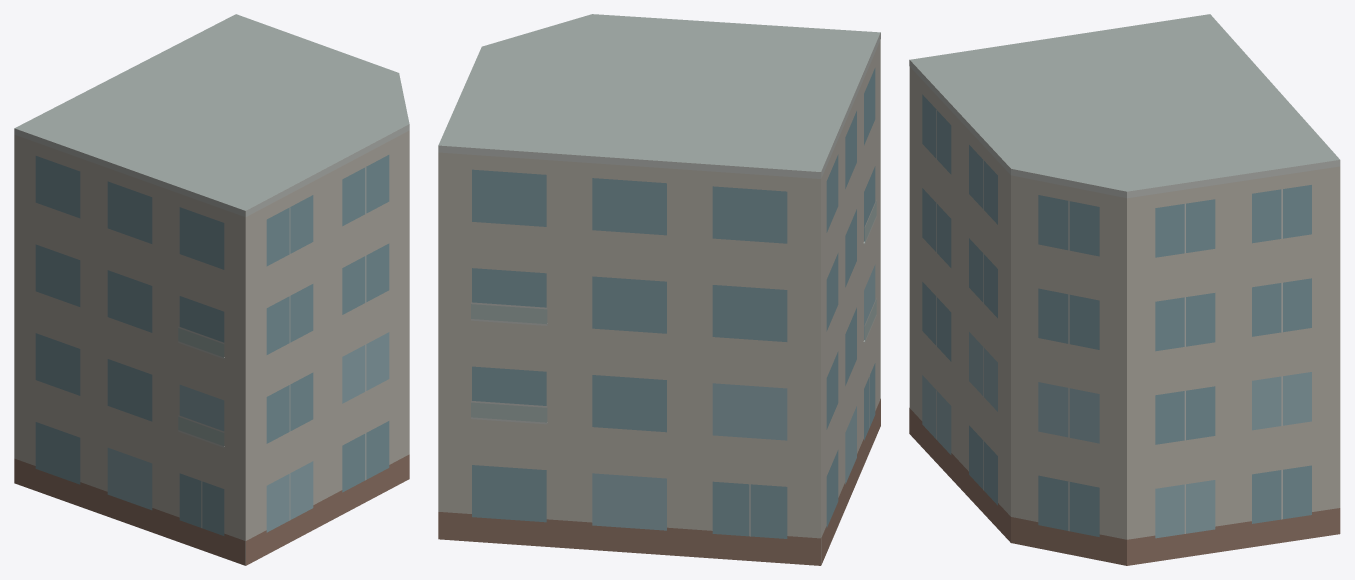
File: survey-upis-32846407.glb
3 renders of one model, left to right at view 1: azimuth 30°, elevation 25°; view 2: azimuth 150°, elevation 25°; view 3: azimuth 270°, elevation 25°, orthographic. The views are drawn at different scales.
Parts seen in each view (by area): view 1: survey-upis-32846407.tmp; view 2: survey-upis-32846407.tmp; view 3: survey-upis-32846407.tmp.
Boxes of the visible parts, box(x1,y1,x2,y2) form: survey-upis-32846407.tmp: box(14, 14, 409, 565); survey-upis-32846407.tmp: box(438, 14, 880, 565); survey-upis-32846407.tmp: box(909, 14, 1340, 565).
Bounding box in the file's own units: 14.04 × 13.78 × 14.38.
